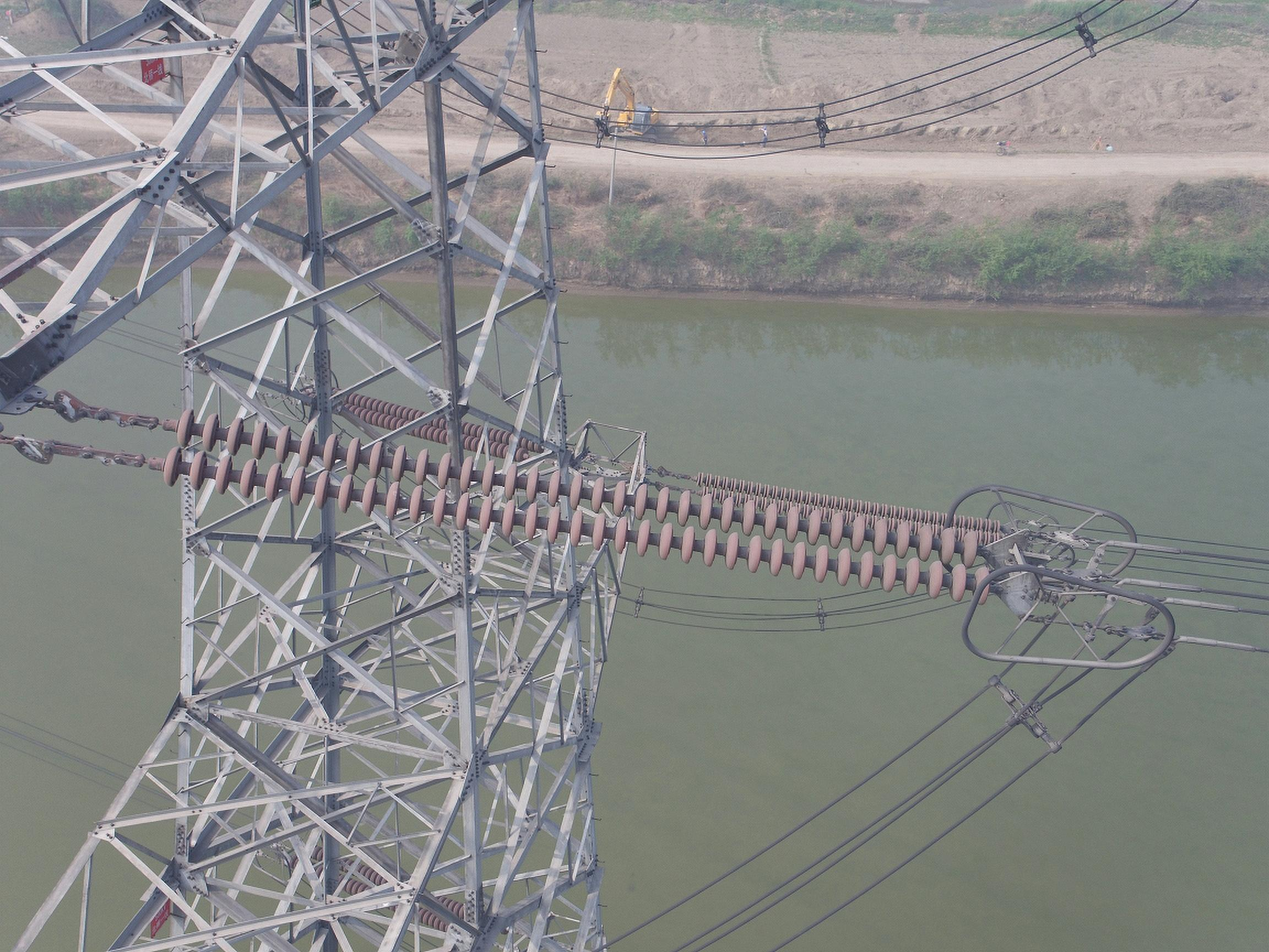insulator: (158, 405, 994, 608), (693, 469, 1002, 545), (327, 385, 545, 464), (287, 843, 467, 934)
